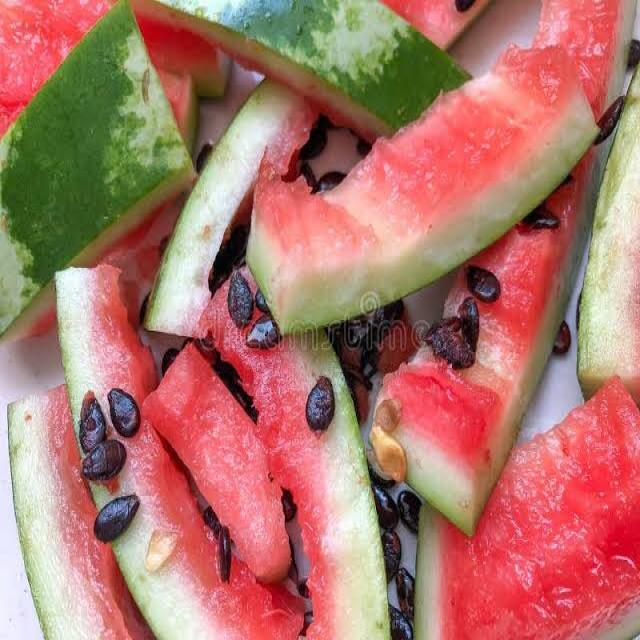organic: (53, 245, 392, 640), (245, 33, 608, 350), (0, 0, 196, 334), (417, 377, 640, 640), (144, 340, 292, 580)
